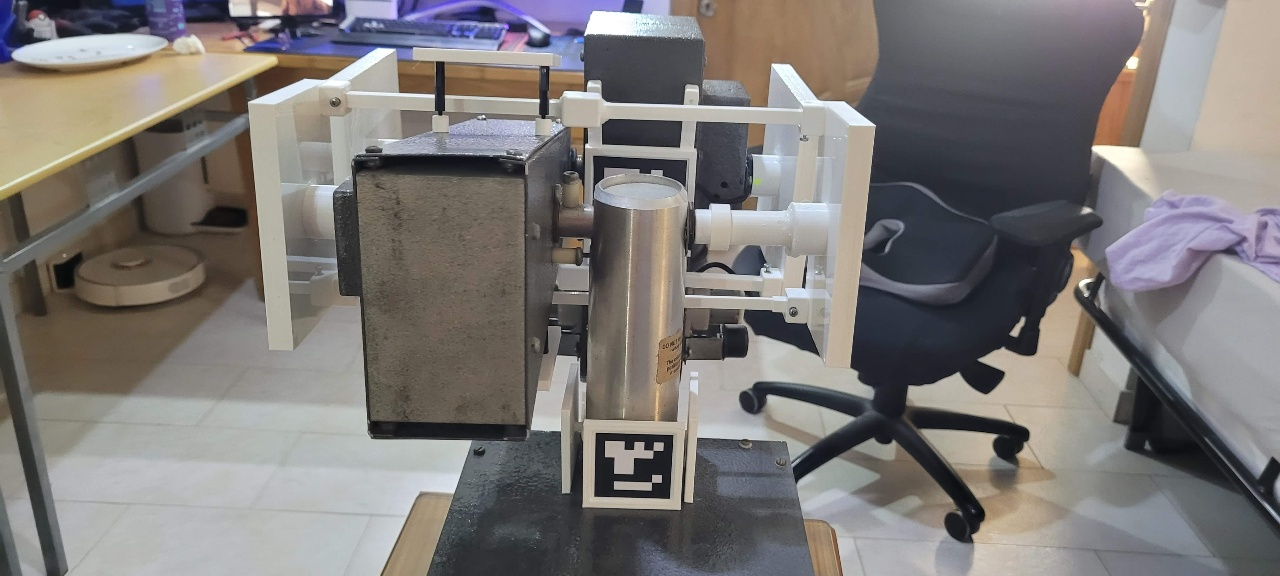Robot: (247, 9, 877, 510)
